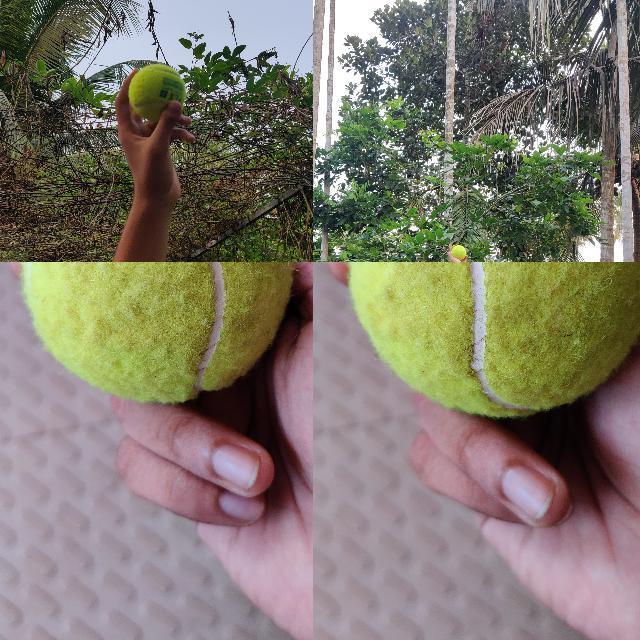tennis-ball: (344, 262, 639, 417), (20, 262, 295, 404), (127, 63, 186, 122), (451, 245, 466, 260)
